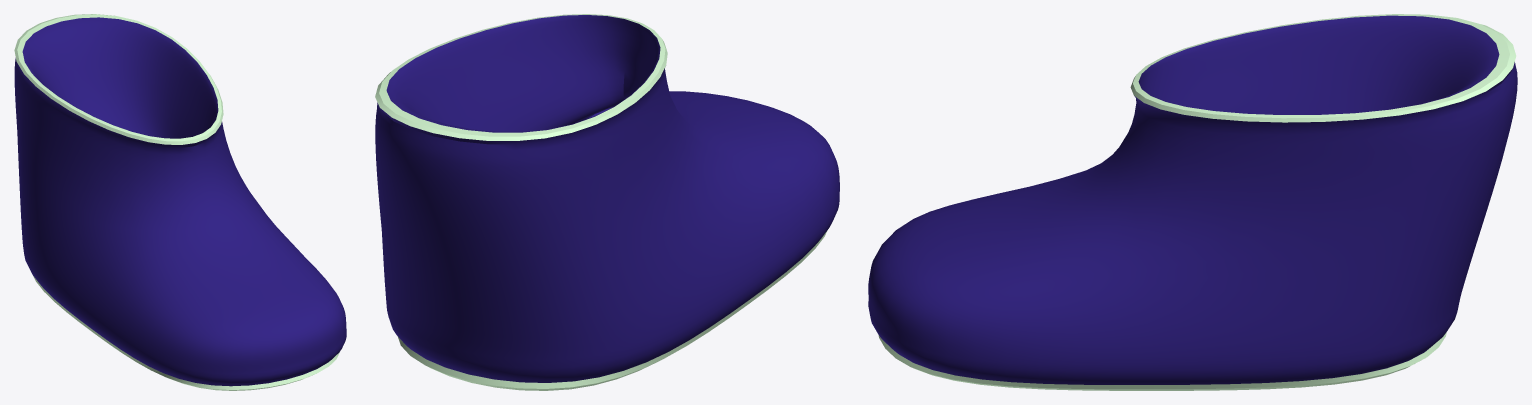
File: galosha.fbx
3 views of the same model, side by side, from view 1: azimuth 30°, elevation 25°; view 2: azimuth 150°, elevation 25°; view 3: azimuth 270°, elevation 25° (orthographic). The views are drawn at different scales.
Parts seen in each view (by area): view 1: Cube, Cube.003, Cube.002, Cube.001; view 2: Cube, Cube.002, Cube.003, Cube.001; view 3: Cube, Cube.002, Cube.003, Cube.001.
Part boxes in pixels (box(x1,y1,x2,y2)): Cube: box(14, 17, 346, 386); Cube.003: box(17, 14, 221, 141); Cube.002: box(33, 276, 339, 390); Cube.001: box(14, 14, 223, 144); Cube: box(375, 15, 839, 382); Cube.002: box(397, 230, 827, 390); Cube.003: box(379, 14, 665, 136); Cube.001: box(375, 39, 667, 140); Cube: box(868, 15, 1517, 384); Cube.002: box(878, 332, 1446, 390); Cube.003: box(1133, 14, 1509, 118); Cube.001: box(1130, 24, 1516, 122).
Bounding box in the file's own units: 195 × 192 × 398.
